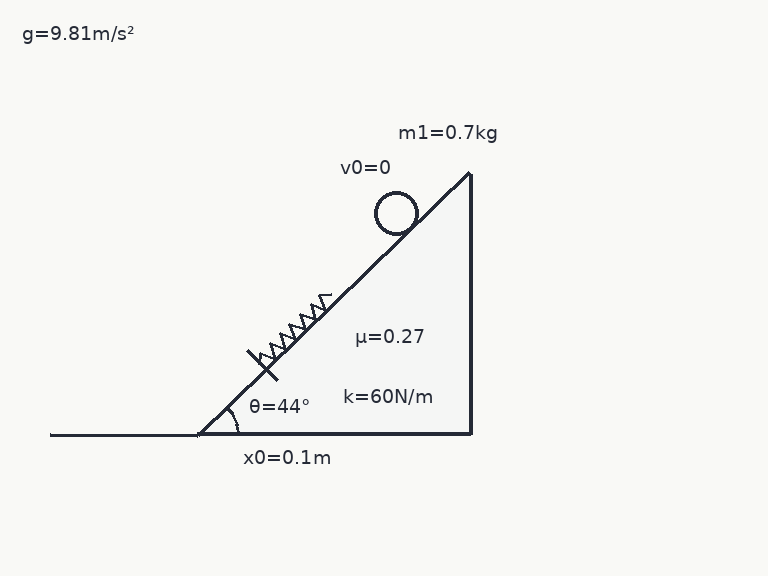ball: (372, 189, 420, 237)
ramp: (196, 171, 471, 437)
spring: (258, 293, 332, 365)
